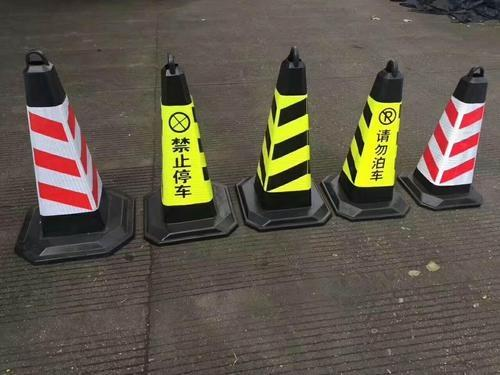cone_barrel: (16, 50, 123, 246), (142, 56, 223, 237), (235, 52, 319, 215), (328, 62, 406, 210), (407, 67, 488, 198)
